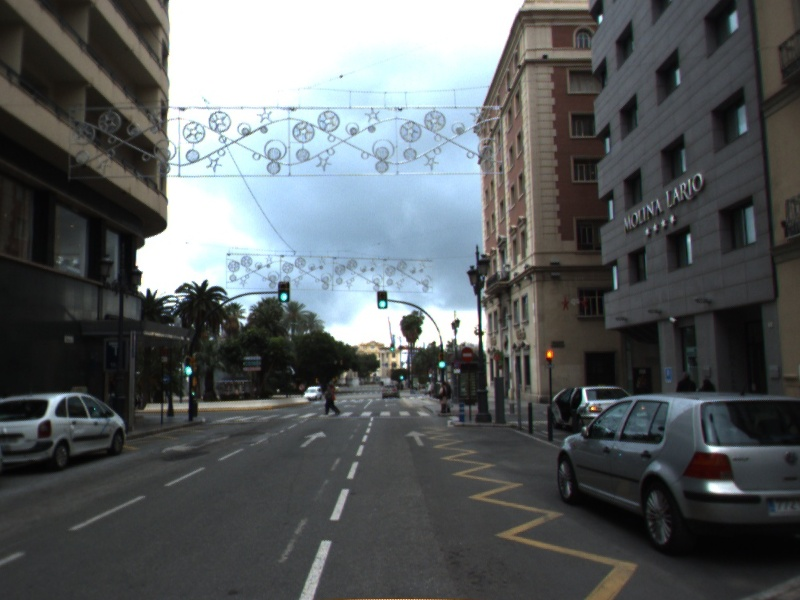STRAIGHT: (297, 429, 329, 449), (402, 428, 429, 448)
STRAIGHT_LEFT: (159, 433, 231, 455)
